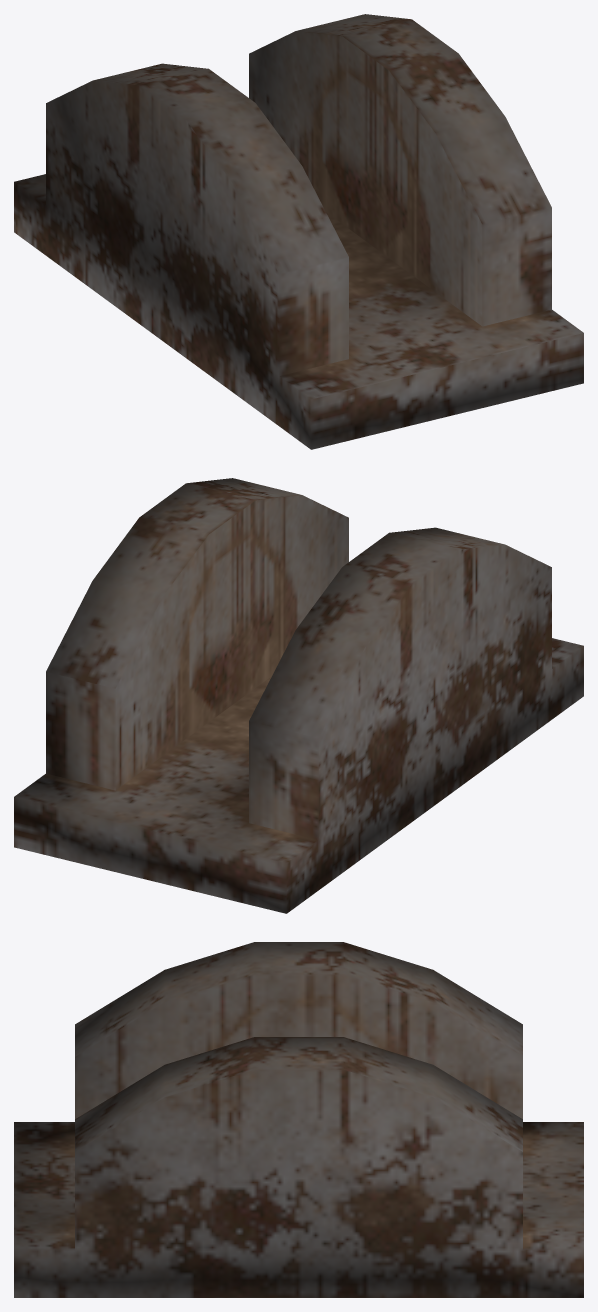
File: BaseInterruptor.obj
3 renders of one model, top to bottom at view 1: azimuth 30°, elevation 25°; view 2: azimuth 150°, elevation 25°; view 3: azimuth 270°, elevation 25°, orthographic. The views are drawn at different scales.
Parts seen in each view (by area): view 1: BaseInterruptor; view 2: BaseInterruptor; view 3: BaseInterruptor.
Part boxes in pixels (left/top/right/bottom): BaseInterruptor: left=14, top=14, right=583, bottom=449; BaseInterruptor: left=14, top=478, right=583, bottom=913; BaseInterruptor: left=14, top=942, right=583, bottom=1297.
Bounding box in the file's own units: 2.5 × 2.08 × 4.72.
Materials: 1 (1 with a texture image).
